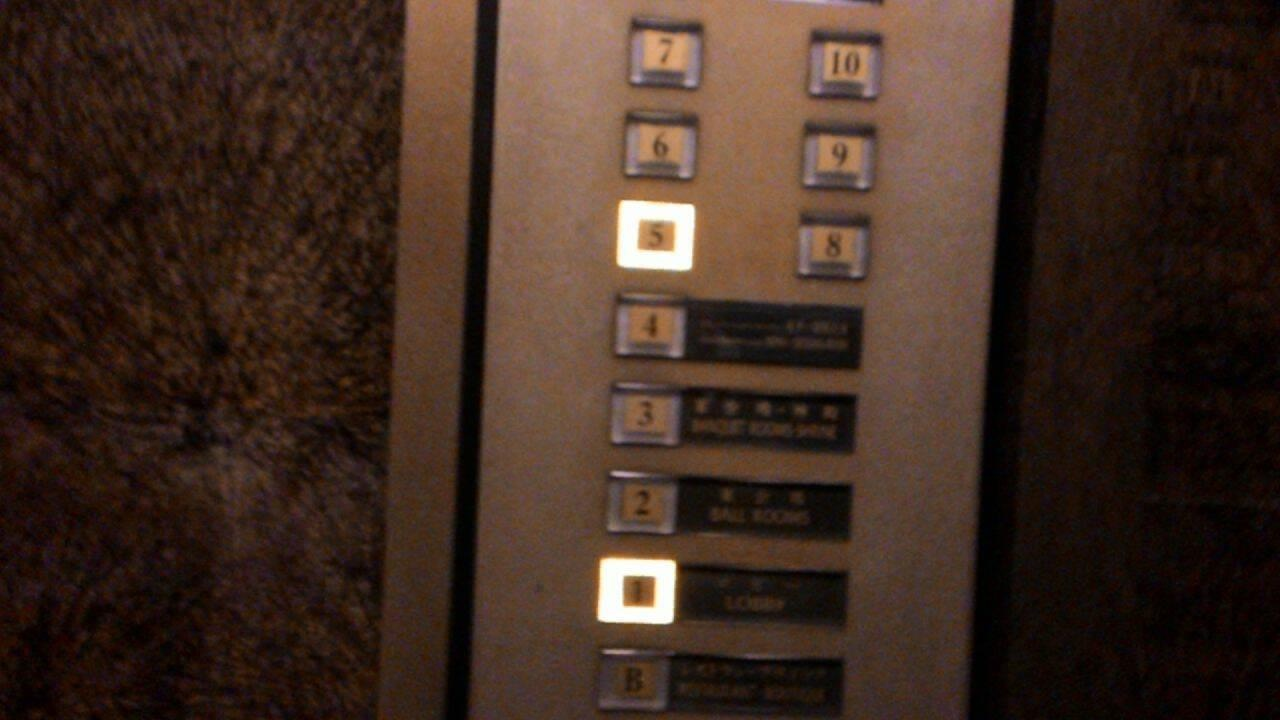1: (593, 552, 681, 628)
10: (800, 23, 887, 104)
2: (601, 465, 682, 540)
3: (602, 376, 688, 453)
4: (607, 286, 691, 364)
5: (610, 194, 699, 276)
6: (616, 101, 704, 186)
7: (623, 14, 709, 94)
8: (790, 211, 875, 283)
9: (794, 116, 881, 195)
B: (590, 644, 677, 717)
